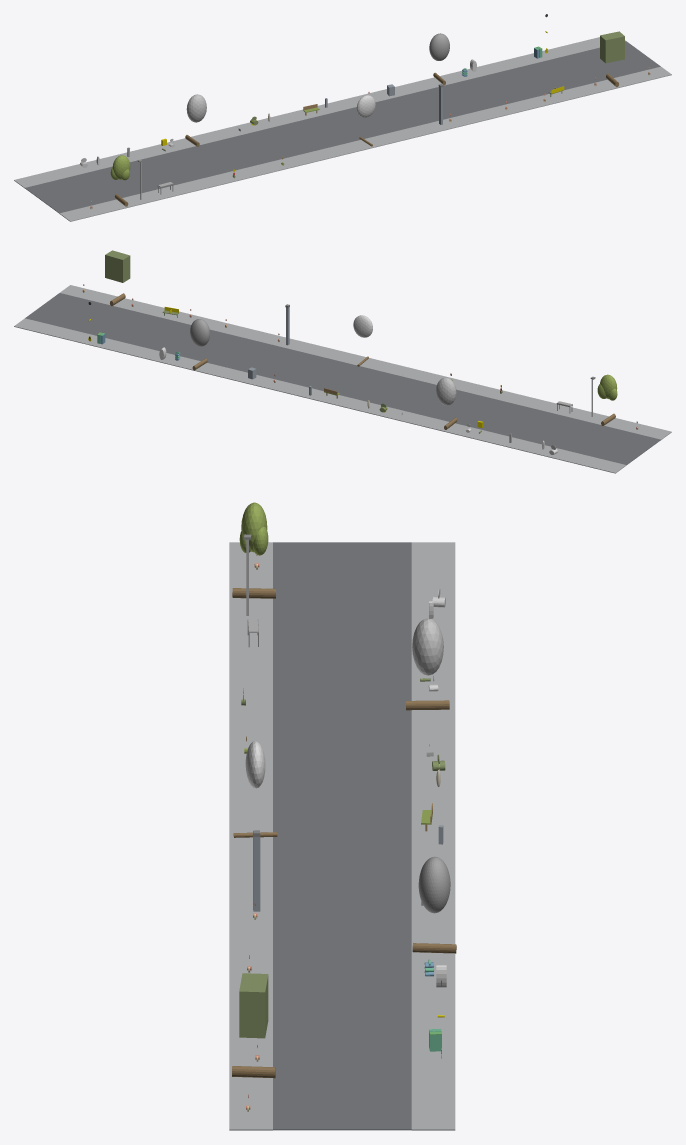
3 views of the same model, one above another, from view 1: azimuth 30°, elevation 25°; view 2: azimuth 150°, elevation 25°; view 3: azimuth 270°, elevation 25° (orthographic). The views are drawn at different scales.
Parts seen in each view (by area): view 1: road_slab, sidewalk_left, sidewalk_right, inst_0016, inst_0013, inst_0015, inst_0012, inst_0014; view 2: road_slab, sidewalk_right, sidewalk_left, inst_0016, inst_0013, inst_0015, inst_0012, inst_0014; view 3: road_slab, sidewalk_right, sidewalk_left, inst_0016, inst_0015, inst_0013, inst_0012, inst_0014.
Boxes of the visible parts, box(x1,y1,x2,y2) form: road_slab: box(25, 41, 660, 213); sidewalk_left: box(59, 66, 671, 221); sidewalk_right: box(14, 37, 625, 188); inst_0016: box(600, 31, 624, 87); inst_0013: box(185, 94, 206, 146); inst_0015: box(429, 33, 449, 85); inst_0012: box(110, 155, 130, 206); inst_0014: box(356, 95, 375, 146); road_slab: box(25, 293, 660, 465); sidewalk_right: box(14, 318, 626, 473); sidewalk_left: box(60, 285, 671, 439); inst_0016: box(105, 250, 130, 305); inst_0013: box(436, 377, 457, 429); inst_0015: box(190, 319, 209, 370); inst_0012: box(597, 374, 617, 425); inst_0014: box(353, 315, 372, 366); road_slab: box(273, 542, 411, 1130); sidewalk_right: box(411, 542, 455, 1130); sidewalk_left: box(229, 542, 272, 1130); inst_0016: box(232, 973, 275, 1078); inst_0015: box(412, 856, 456, 953); inst_0013: box(406, 618, 449, 710); inst_0012: box(232, 502, 275, 598); inst_0014: box(233, 741, 277, 837).
Size of the model in its own units: 80 by 6.08 by 13.08.
